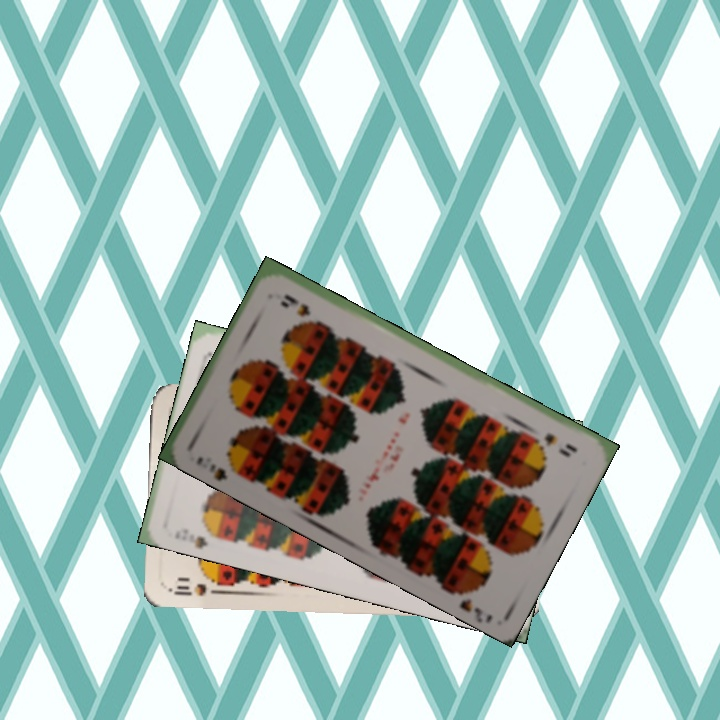S10: (166, 579, 225, 599)
S9: (192, 452, 245, 483), (540, 428, 581, 457), (184, 522, 226, 550)
